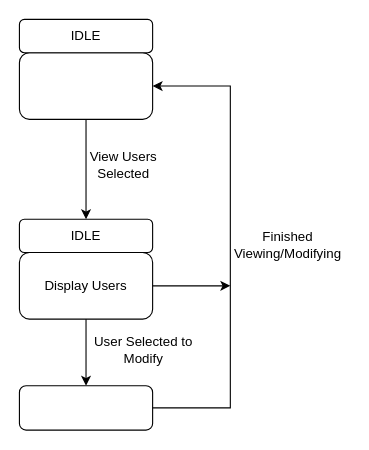
This 369x450 diagram has some shape labels left out. The centre of each missing label's shape, as x and y in pixels:
"Display Main Menu *admin features*" goes at point 85,85.
"Modify User" goes at point 85,407.
